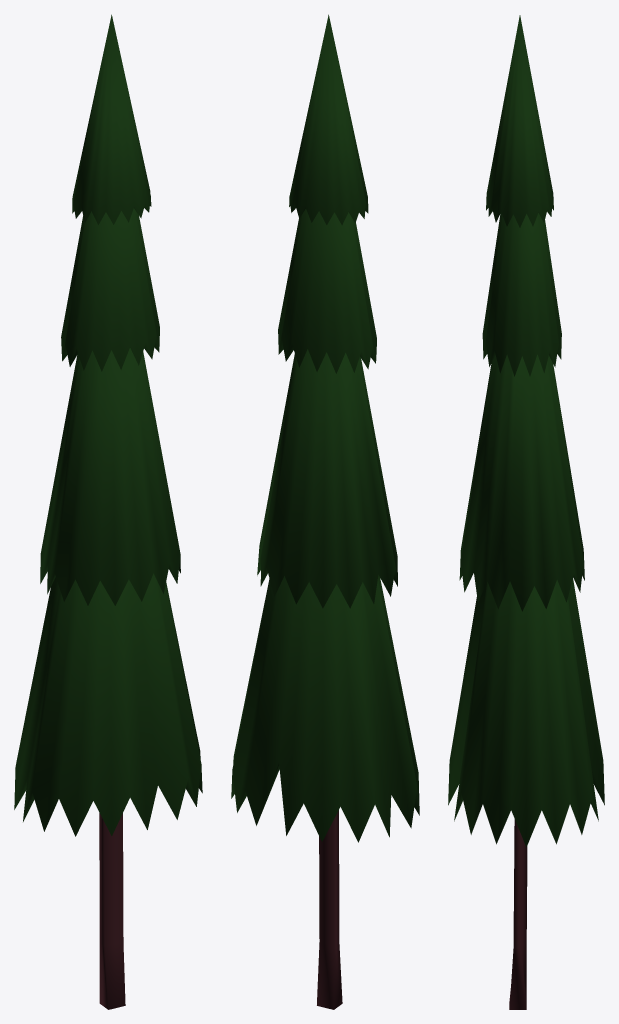
Rendered from tree_temp.fbx.
The picture shows the model from 3 angles, left to right: view 1: azimuth 30°, elevation 25°; view 2: azimuth 150°, elevation 25°; view 3: azimuth 270°, elevation 25°; orthographic projection.
Parts seen in each view (by area): view 1: treeLeaves4, treeLeaves3, treeLeaves2, treeLeaves1, treeTrunk; view 2: treeLeaves4, treeLeaves3, treeLeaves2, treeLeaves1, treeTrunk; view 3: treeLeaves4, treeLeaves3, treeLeaves2, treeLeaves1, treeTrunk.
Part boxes in pixels (bbox=[...]): treeLeaves4: bbox=[14, 573, 202, 836]; treeLeaves3: bbox=[40, 347, 180, 605]; treeLeaves2: bbox=[61, 208, 159, 371]; treeLeaves1: bbox=[72, 14, 151, 224]; treeTrunk: bbox=[99, 813, 125, 1009]; treeLeaves4: bbox=[231, 575, 419, 842]; treeLeaves3: bbox=[257, 349, 397, 608]; treeLeaves2: bbox=[278, 209, 376, 373]; treeLeaves1: bbox=[289, 14, 368, 225]; treeTrunk: bbox=[317, 810, 342, 1009]; treeLeaves4: bbox=[448, 579, 604, 847]; treeLeaves3: bbox=[459, 354, 584, 611]; treeLeaves2: bbox=[482, 212, 561, 376]; treeLeaves1: bbox=[486, 15, 553, 227]; treeTrunk: bbox=[509, 819, 527, 1009].
Size of the model in its own units: 635 by 3505 by 502.
